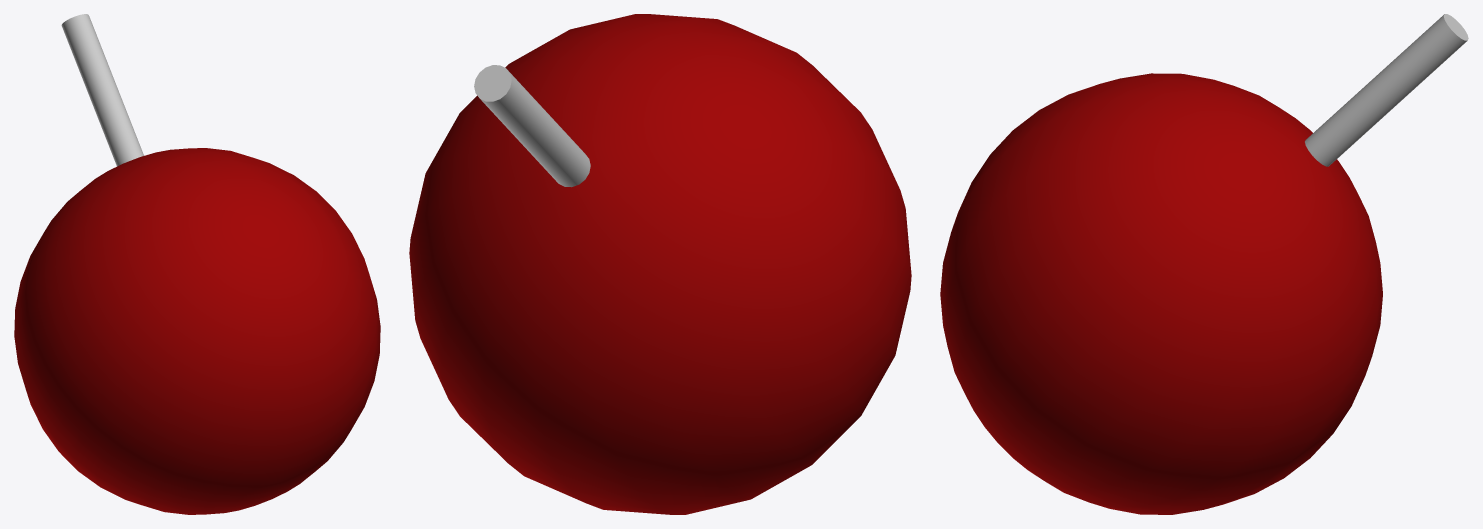
File: CherryBomb.fbx
The picture shows the model from 3 angles, left to right: view 1: azimuth 30°, elevation 25°; view 2: azimuth 150°, elevation 25°; view 3: azimuth 270°, elevation 25°; orthographic projection. The views are drawn at different scales.
Visible parts, largest first — view 1: bomb, fuse; view 2: bomb, fuse; view 3: bomb, fuse.
Part boxes in pixels (x1,y1,x2,y2): bomb: (14, 148, 380, 514); fuse: (61, 14, 143, 166); bomb: (409, 14, 911, 514); fuse: (474, 65, 590, 187); bomb: (940, 73, 1382, 514); fuse: (1305, 14, 1468, 166).
Size of the model in its own units: 54.62 by 65.18 by 65.18.
